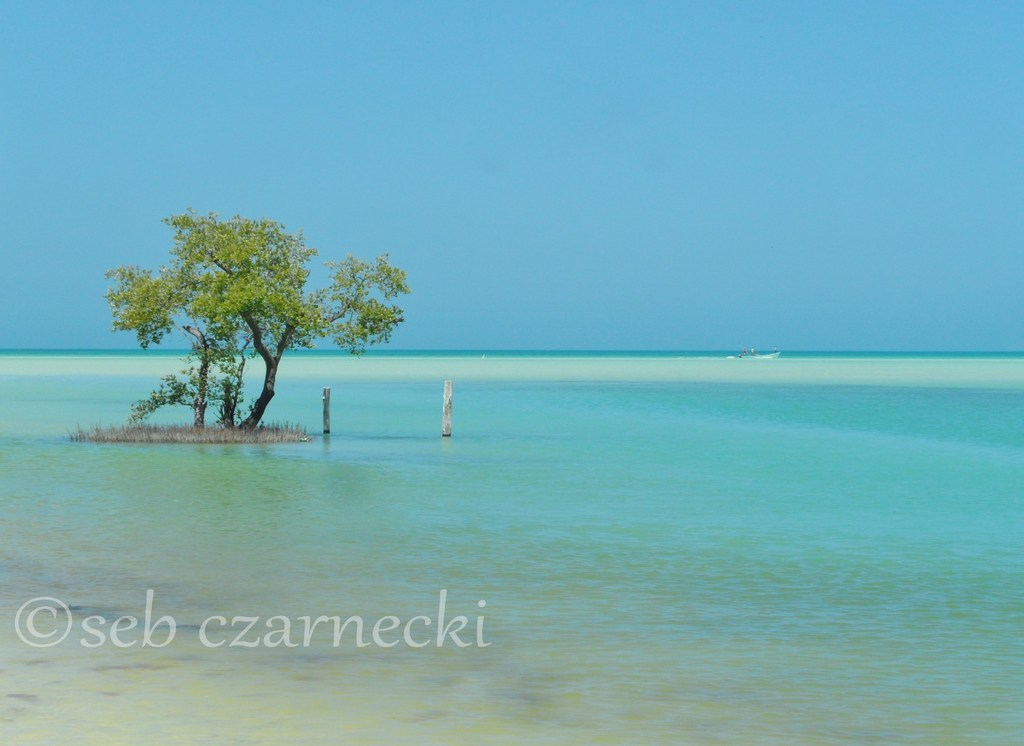Tree: (102, 204, 412, 430)
